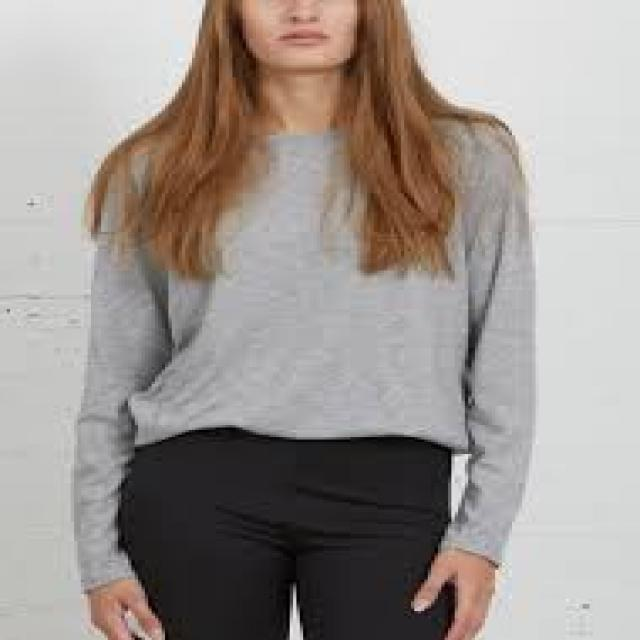plain: (91, 96, 542, 442)
